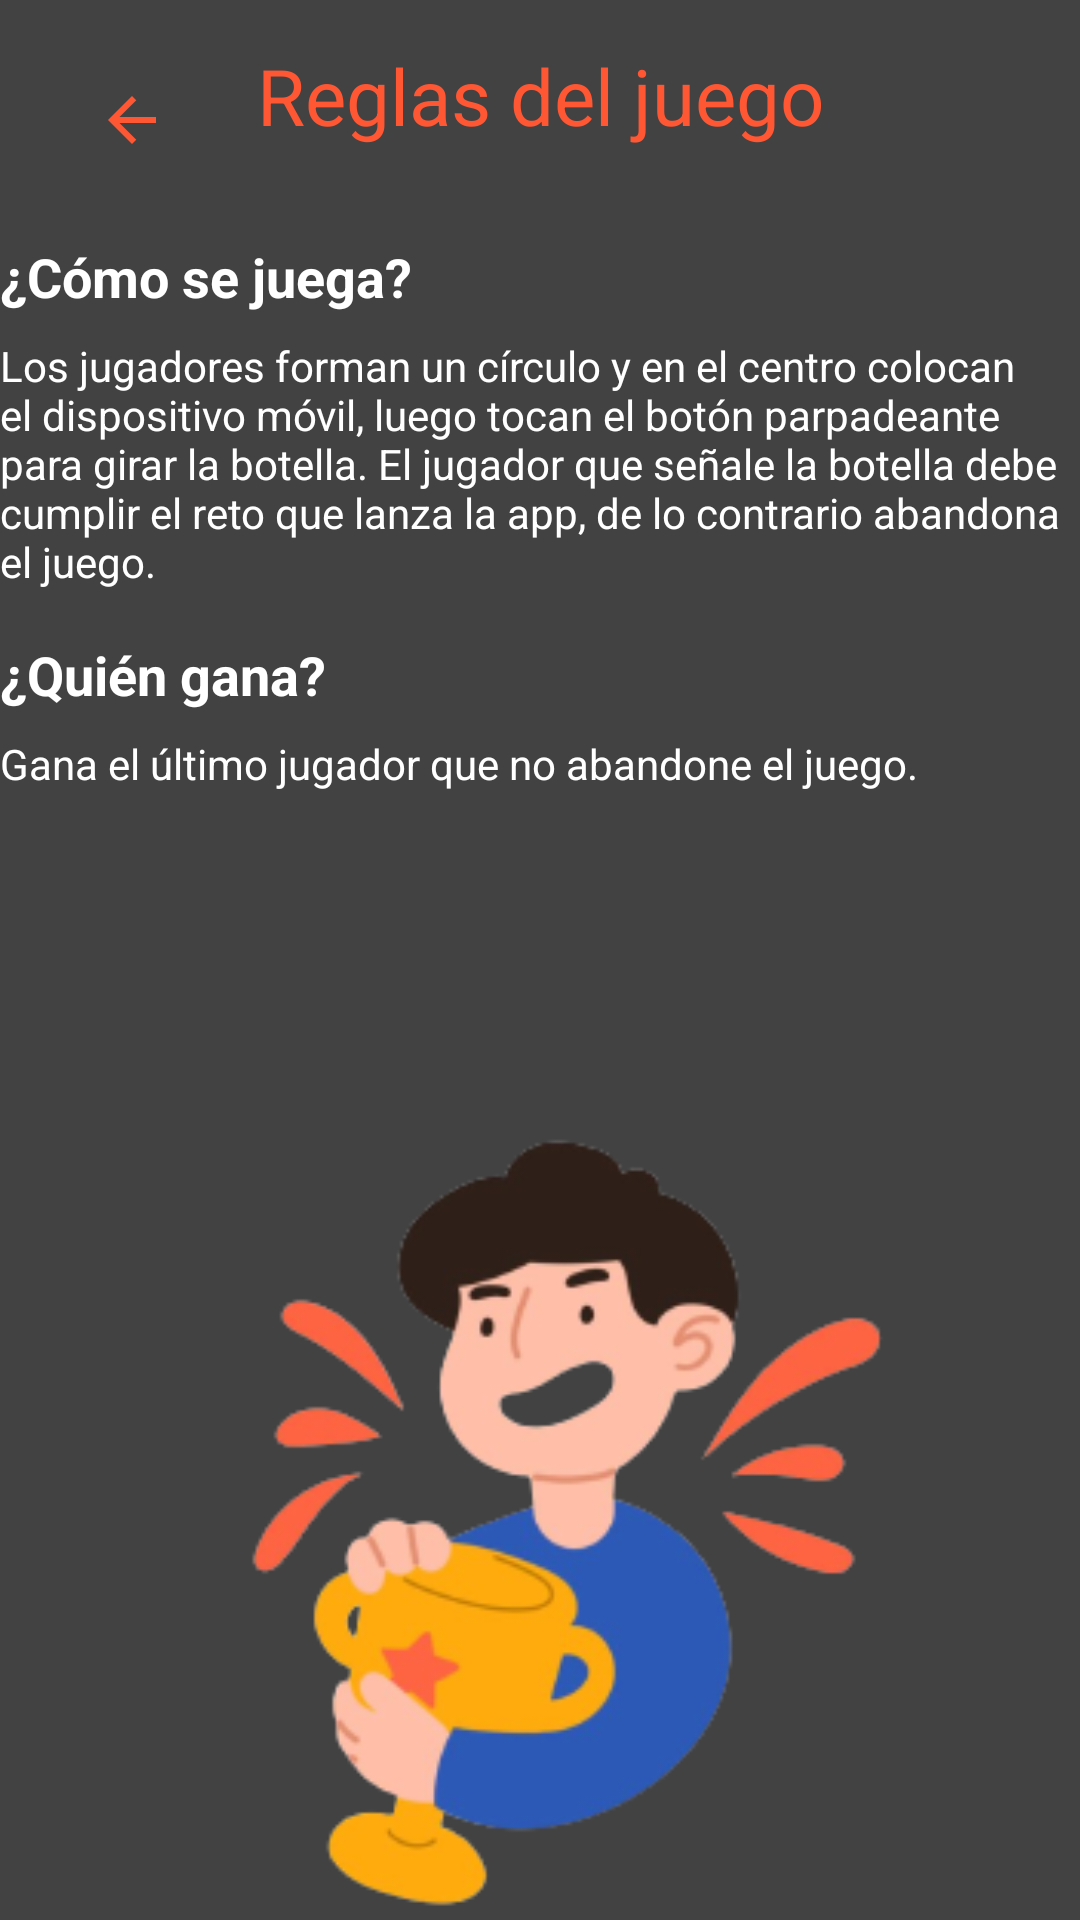

Screen size 1080 × 1920. Icon name, then its center in pixels as (x=x, y=y):
back arrow: (x=132, y=120)
